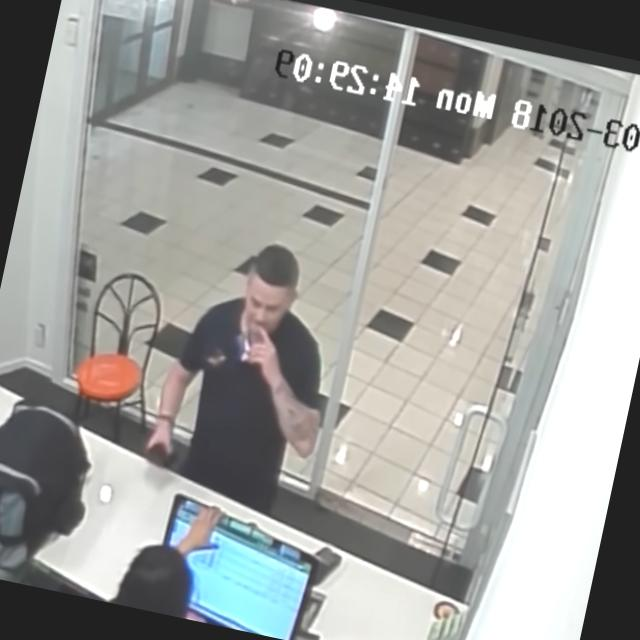person: (138, 226, 356, 523), (0, 392, 105, 592), (107, 488, 228, 622)
